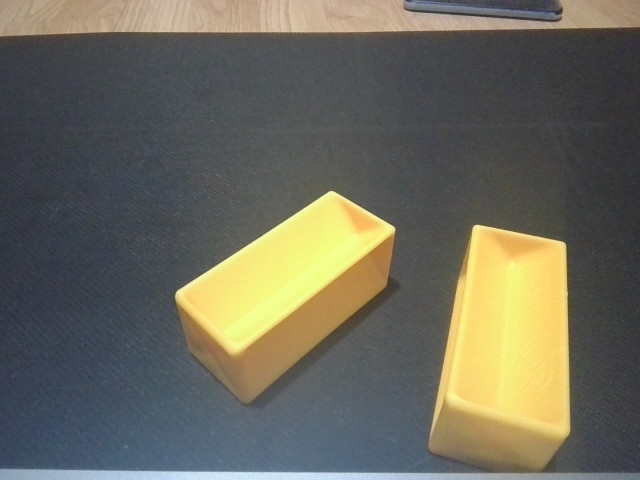YellowSample: (170, 187, 400, 409), (424, 221, 572, 472)
